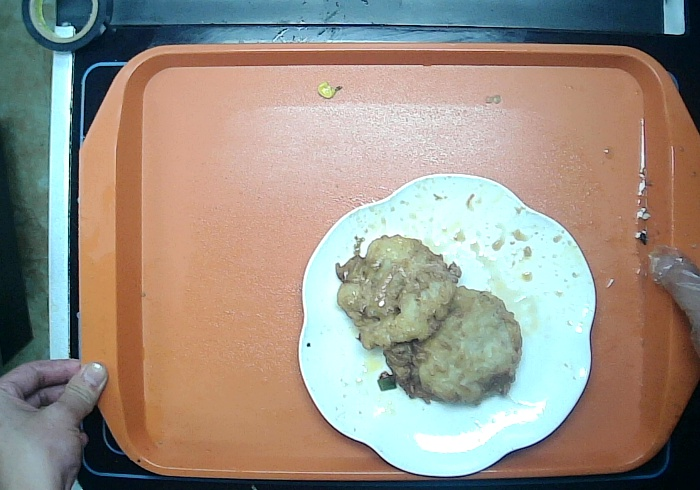HZYJPL-Bai_Se_Hua_Duo_Wan: (275, 156, 607, 487)
